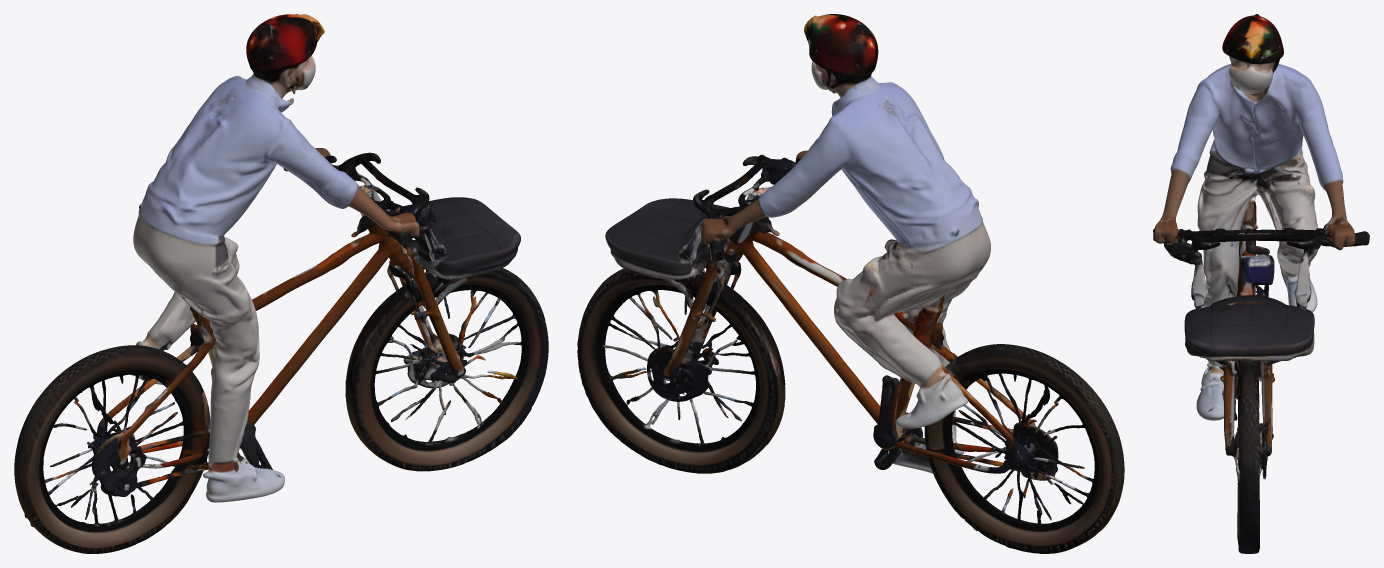
The picture shows the model from 3 angles, left to right: view 1: azimuth 30°, elevation 25°; view 2: azimuth 150°, elevation 25°; view 3: azimuth 270°, elevation 25°; orthographic projection. The views are drawn at different scales.
Visible parts, largest first — view 1: tripo_node_b614e1c8; view 2: tripo_node_b614e1c8; view 3: tripo_node_b614e1c8.
Part boxes in pixels (<box>): tripo_node_b614e1c8: <box>14,14,548,553</box>; tripo_node_b614e1c8: <box>577,14,1124,553</box>; tripo_node_b614e1c8: <box>1153,14,1369,553</box>.
Size of the model in its own units: 100 by 87.13 by 37.95.
